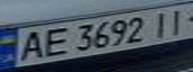2: (124, 14, 154, 44)
3: (72, 21, 96, 53)
6: (90, 18, 115, 51)
9: (106, 17, 133, 47)
A: (12, 28, 48, 62)
E: (36, 25, 72, 58)
I: (145, 8, 175, 38), (163, 6, 193, 35)
